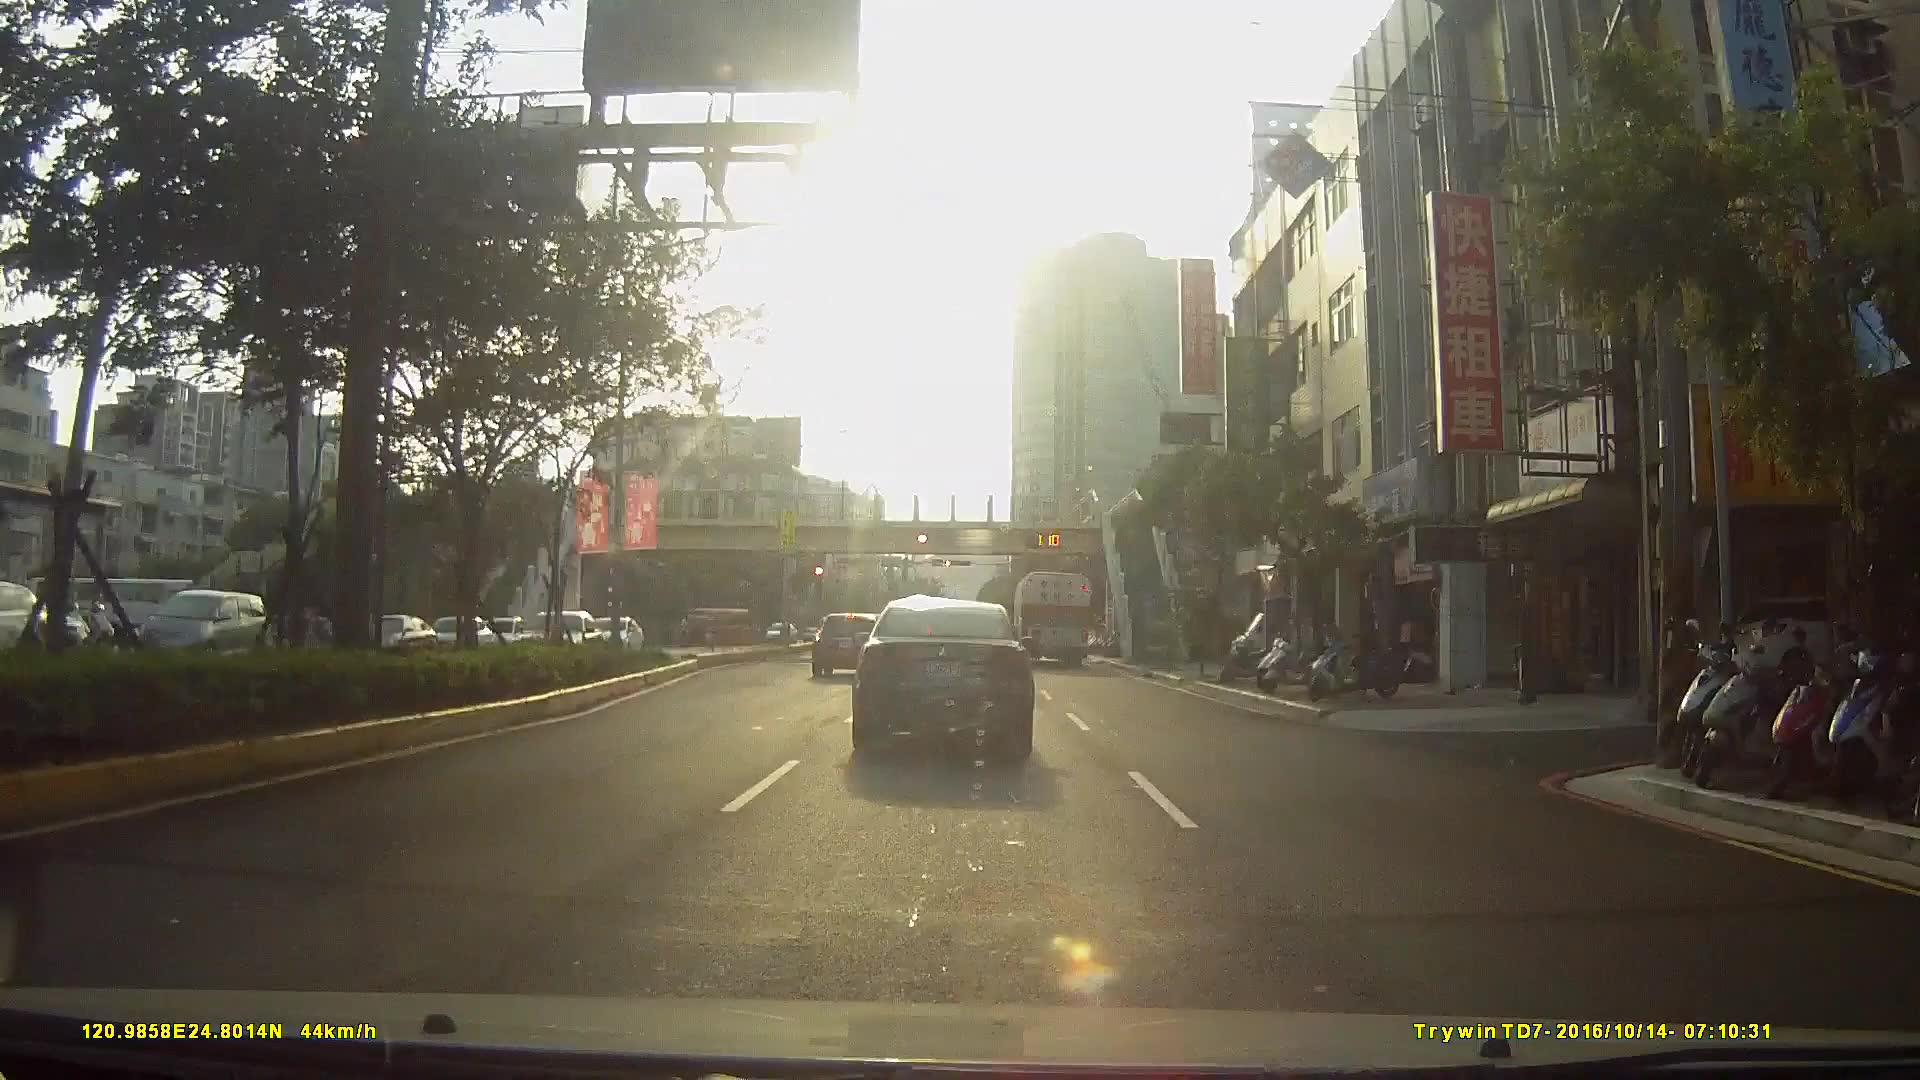vehicle: (849, 593, 1035, 754), (129, 587, 262, 663), (1009, 563, 1093, 662), (808, 609, 880, 679), (761, 616, 798, 642)
